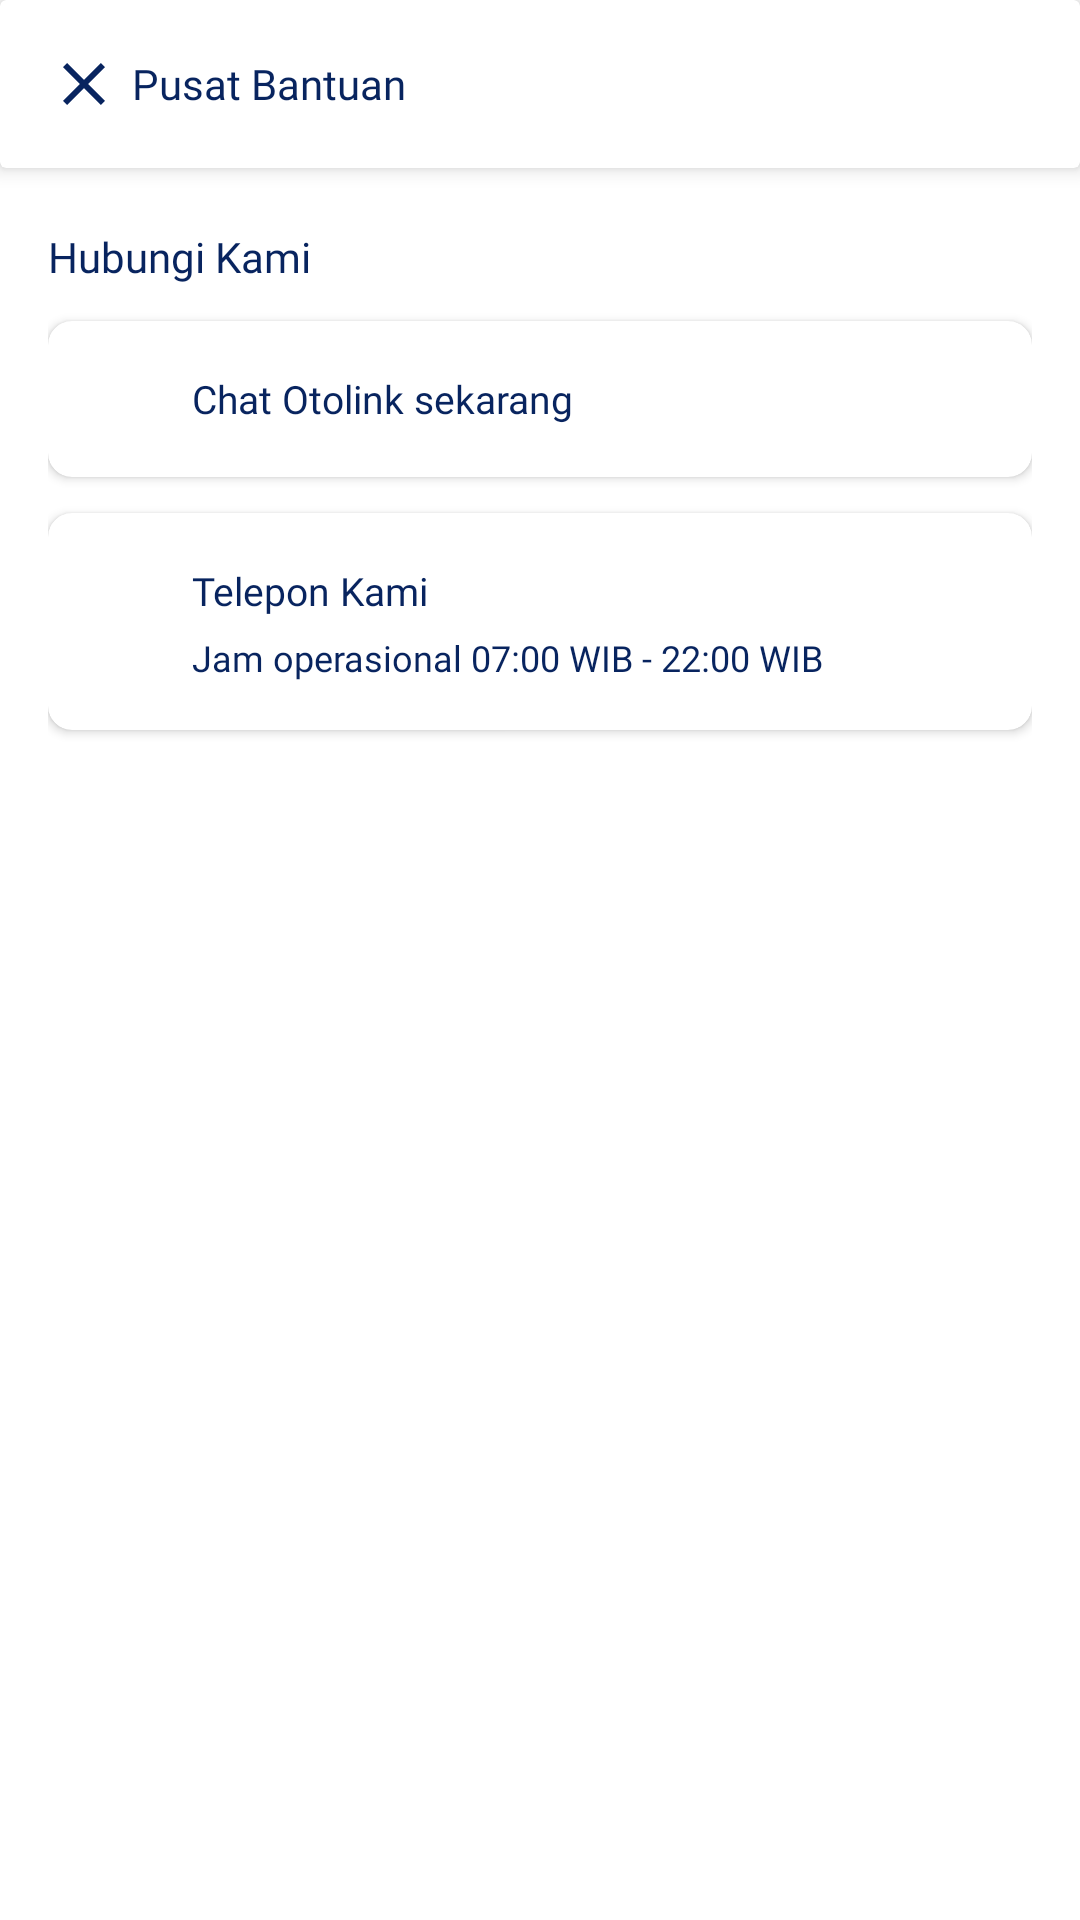

Point at icon controls on the screen. Image size 1080*1920, points as point (x, y).
Tutup: point (84, 84)
